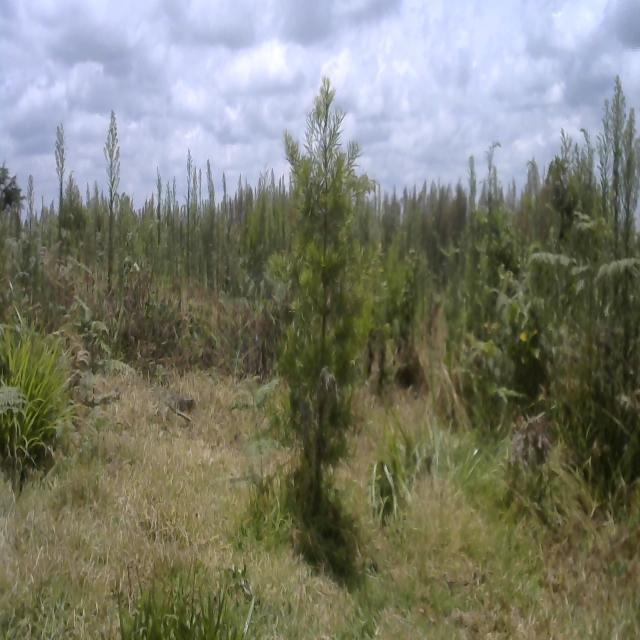Podocarpus falcatus: (268, 75, 384, 507)
